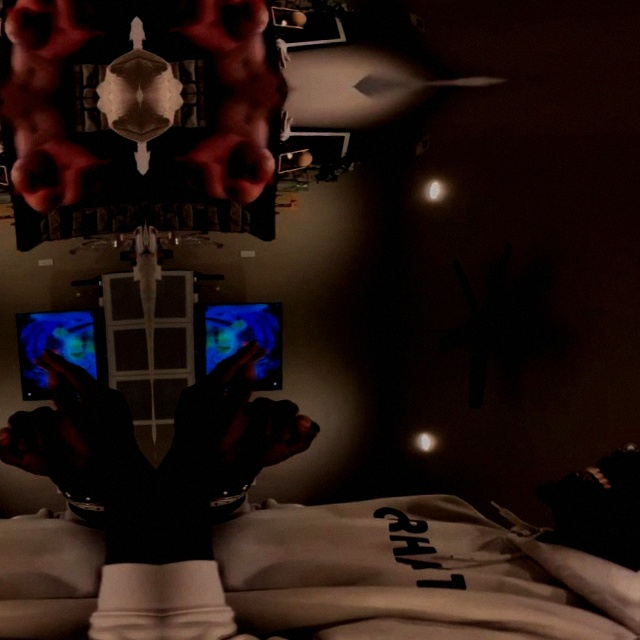Rock: (206, 396, 322, 469)
